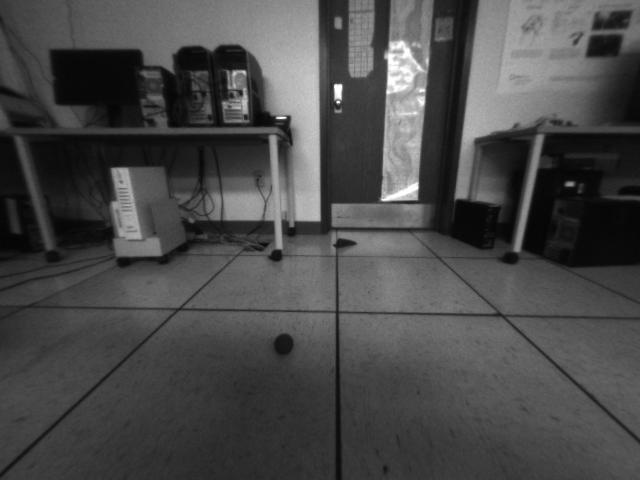dogtoy: (267, 326, 301, 360)
